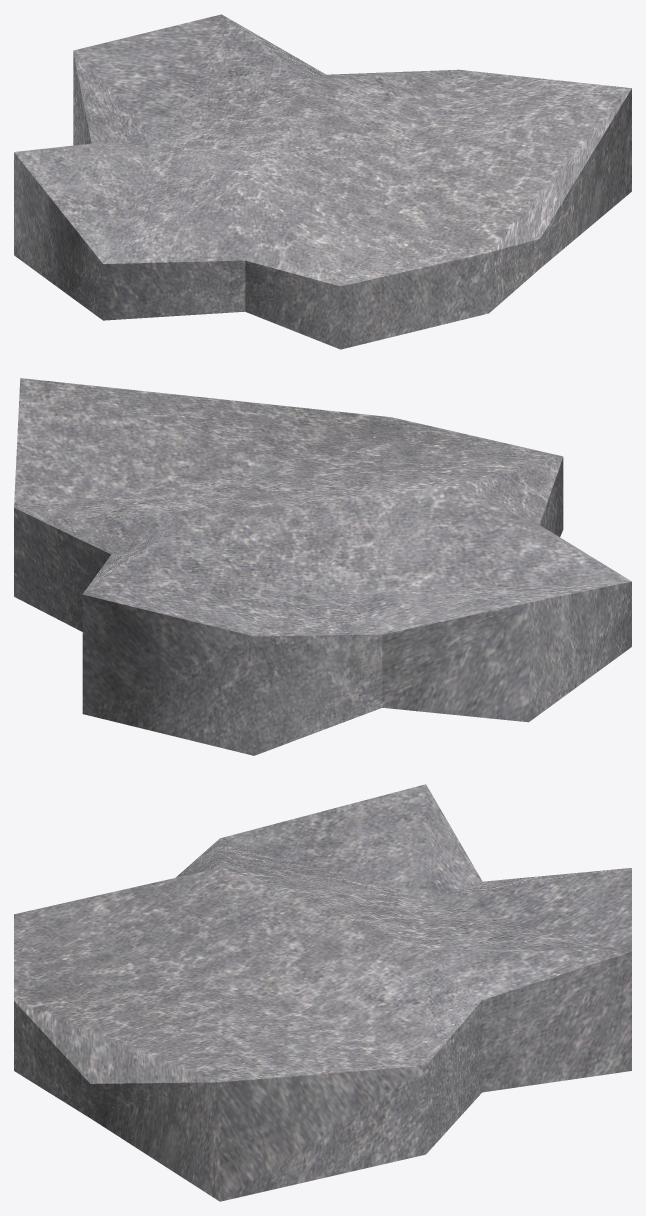
Rendered from Rock2.FBX.
3 renders of one model, top to bottom at view 1: azimuth 30°, elevation 25°; view 2: azimuth 150°, elevation 25°; view 3: azimuth 270°, elevation 25°, orthographic. The views are drawn at different scales.
Parts seen in each view (by area): view 1: Box001; view 2: Box001; view 3: Box001.
Part boxes in pixels (x1,y1,x2,y2): Box001: (14, 14, 631, 349); Box001: (14, 378, 631, 755); Box001: (14, 784, 631, 1201).
Bounding box in the file's own units: 72.59 × 63.58 × 13.56.
1 material, 1 textured.
